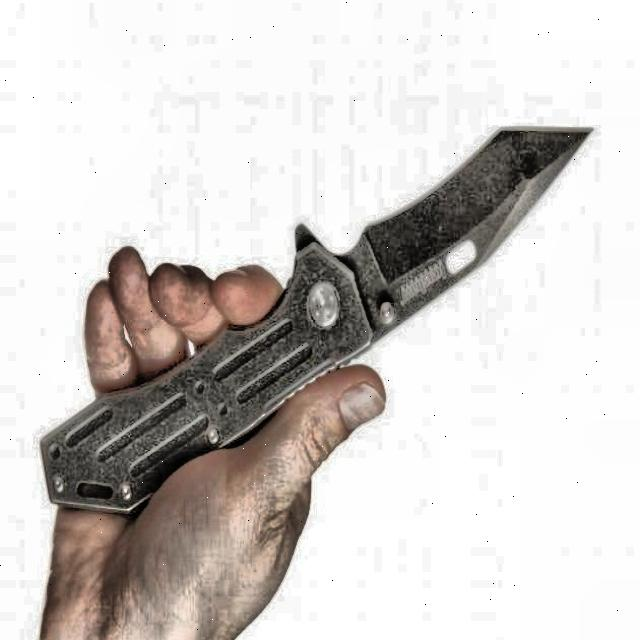knife: (41, 128, 592, 516)
